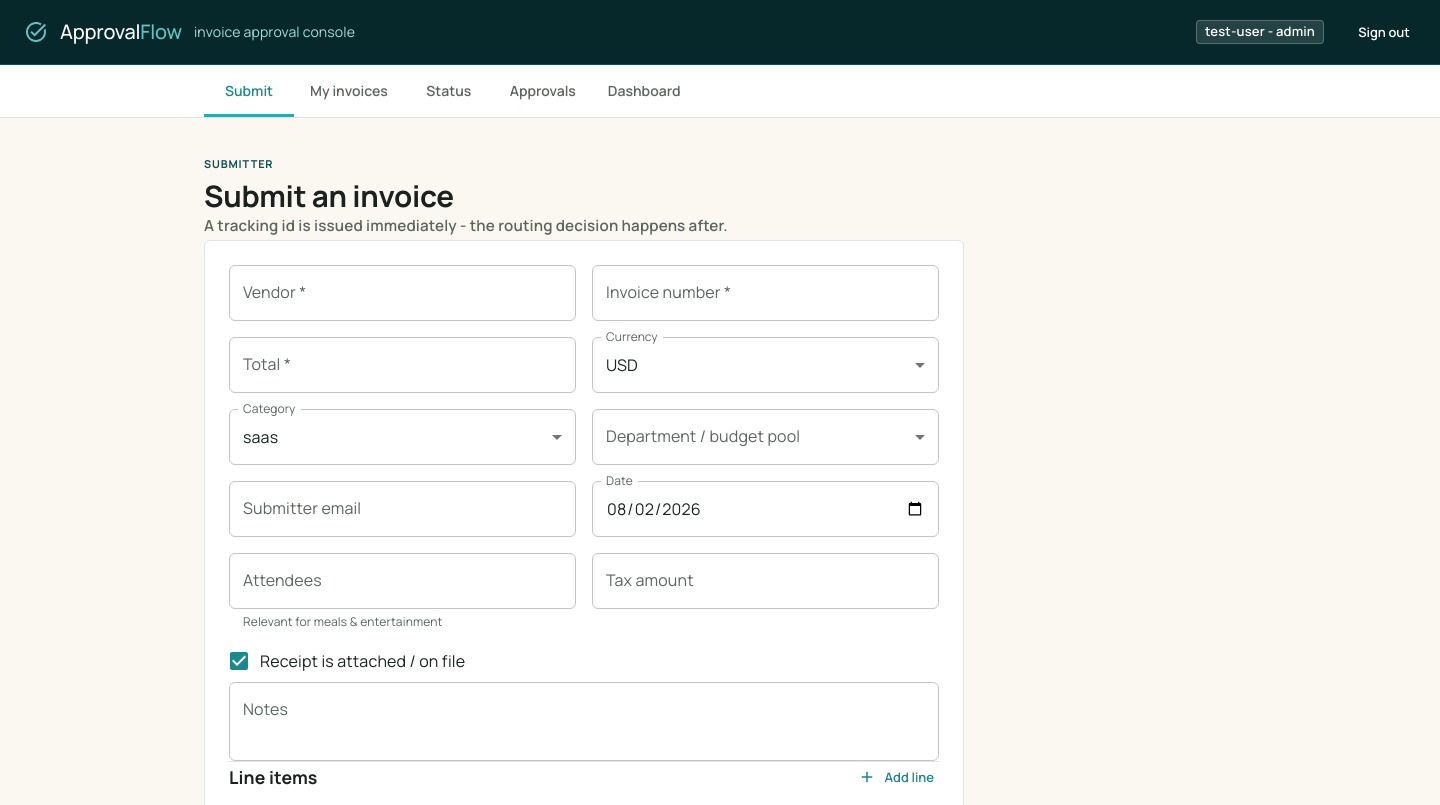
App - authenticated (role-gated tabs) › shows every tab for an admin
Expected: the tab "Submit" is shown, x1=204 y1=65 x2=294 y2=117
Expected: the tab "Status" is shown, x1=404 y1=65 x2=494 y2=117
Click the tab "Dashboard": x=644, y=91 x1=592 y1=65 x2=696 y2=117
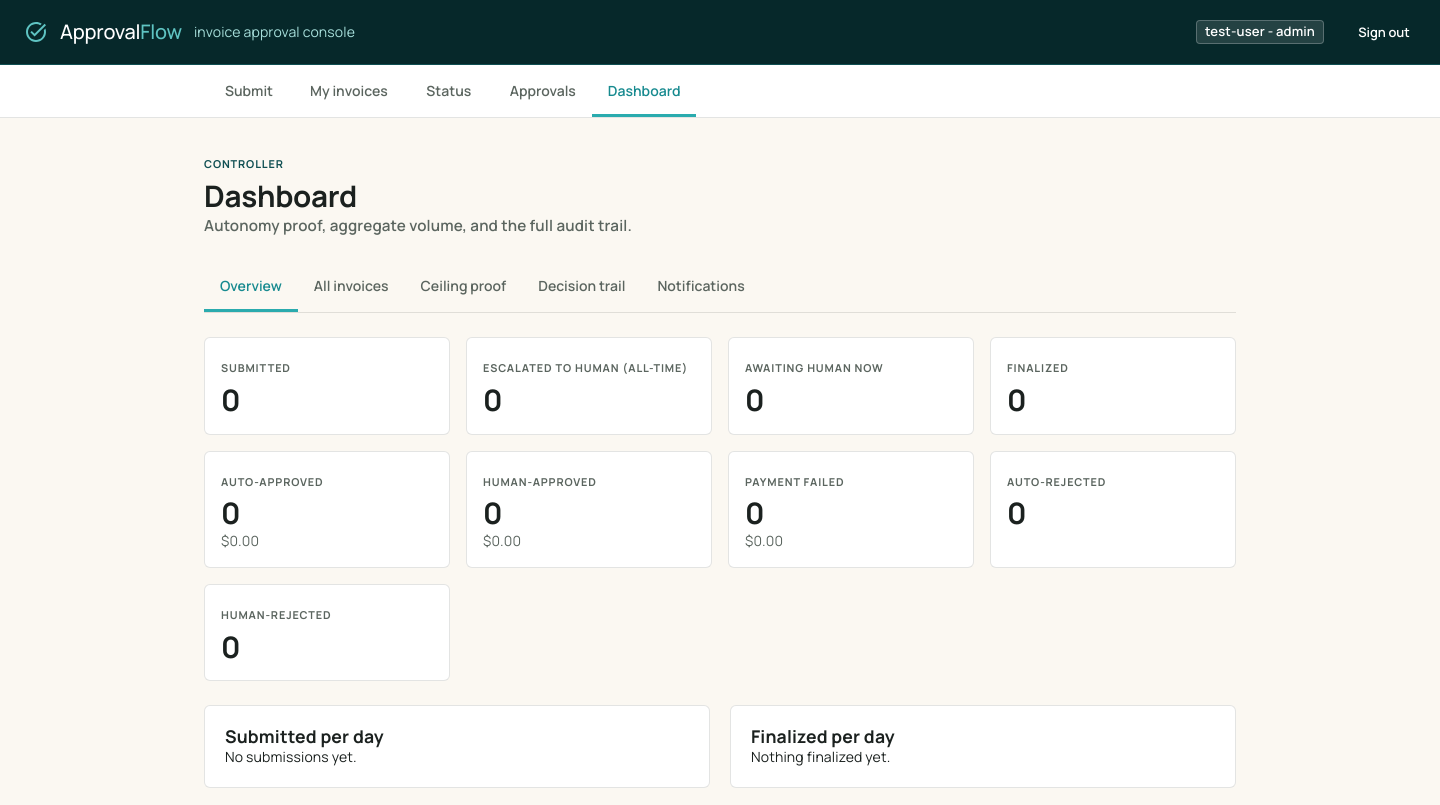
Now the heading "Dashboard" is shown, box x1=204 y1=175 x2=357 y2=216
Now the text "Submitted" is shown, box x1=221 y1=360 x2=291 y2=375
